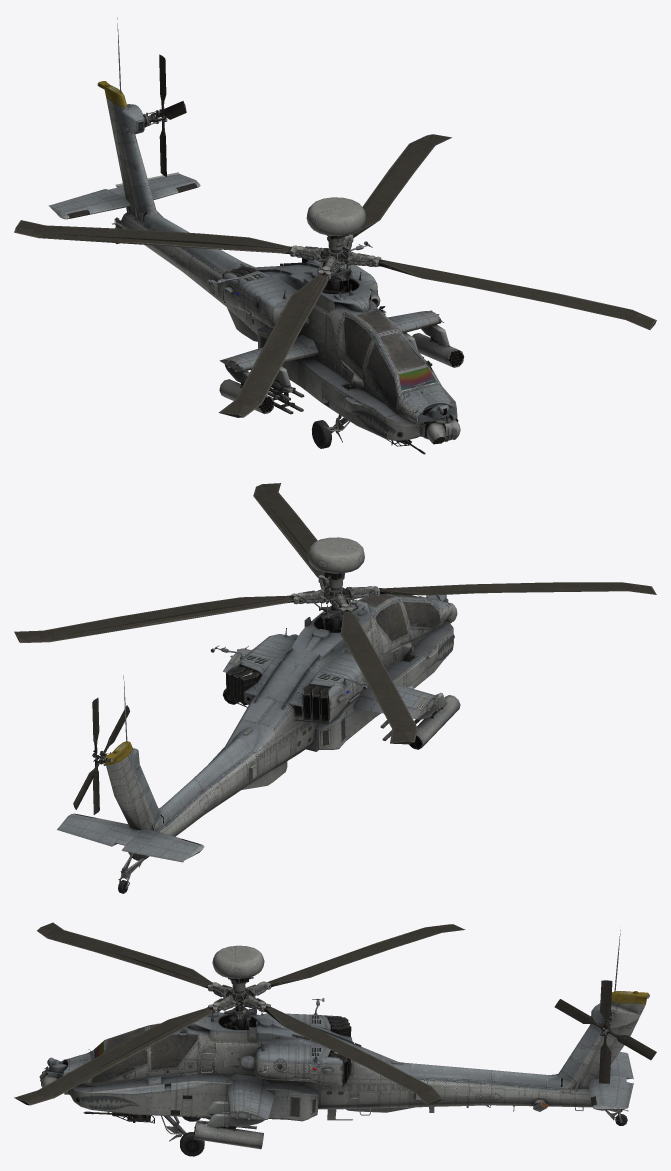
3 views of the same model, one above another, from view 1: azimuth 30°, elevation 25°; view 2: azimuth 150°, elevation 25°; view 3: azimuth 270°, elevation 25° (orthographic). The views are drawn at different scales.
Visible parts, largest first — view 1: AH-64; view 2: AH-64; view 3: AH-64.
Boxes of the visible parts, box(x1,y1,x2,y2) form: AH-64: box(14, 17, 656, 454); AH-64: box(14, 483, 656, 893); AH-64: box(14, 922, 656, 1156).
Size of the model in its own units: 11.21 by 5.82 by 15.95.
Materials: 1 (1 with a texture image).
